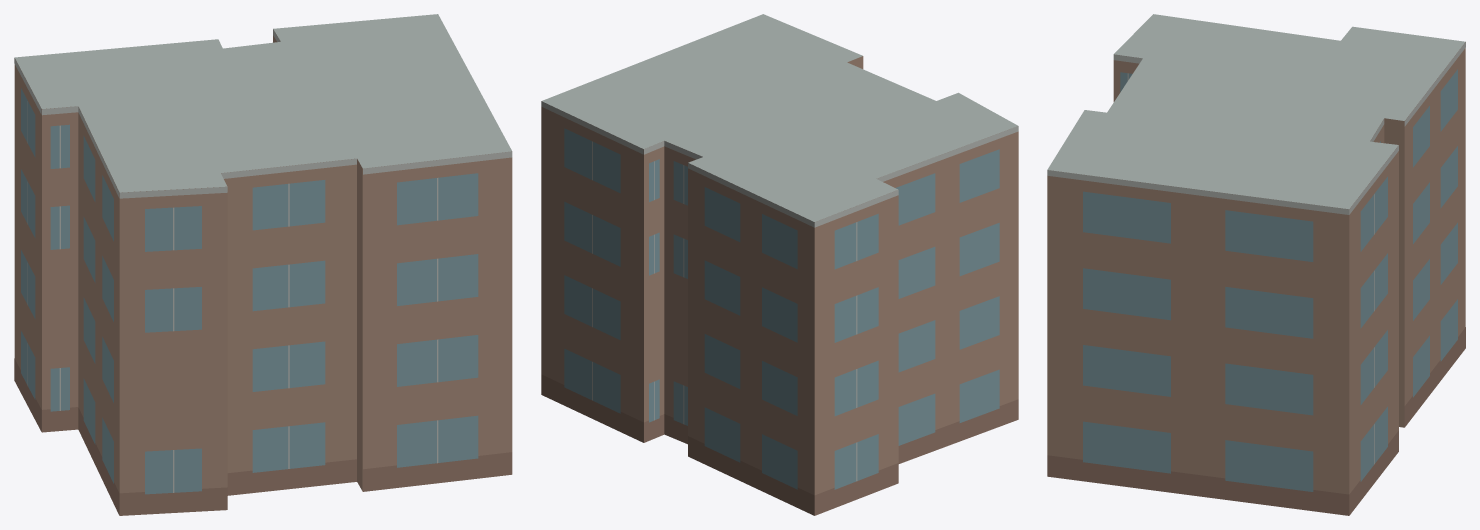
Rendered from survey-upis-32687230.glb.
3 renders of one model, left to right at view 1: azimuth 30°, elevation 25°; view 2: azimuth 150°, elevation 25°; view 3: azimuth 270°, elevation 25°, orthographic. The views are drawn at different scales.
Parts seen in each view (by area): view 1: survey-upis-32687230.tmp; view 2: survey-upis-32687230.tmp; view 3: survey-upis-32687230.tmp.
Part boxes in pixels (bbox=[...]): survey-upis-32687230.tmp: bbox=[14, 14, 512, 515]; survey-upis-32687230.tmp: bbox=[541, 14, 1018, 515]; survey-upis-32687230.tmp: bbox=[1047, 14, 1465, 515].
Bounding box in the file's own units: 17.63 × 12.9 × 15.97.
